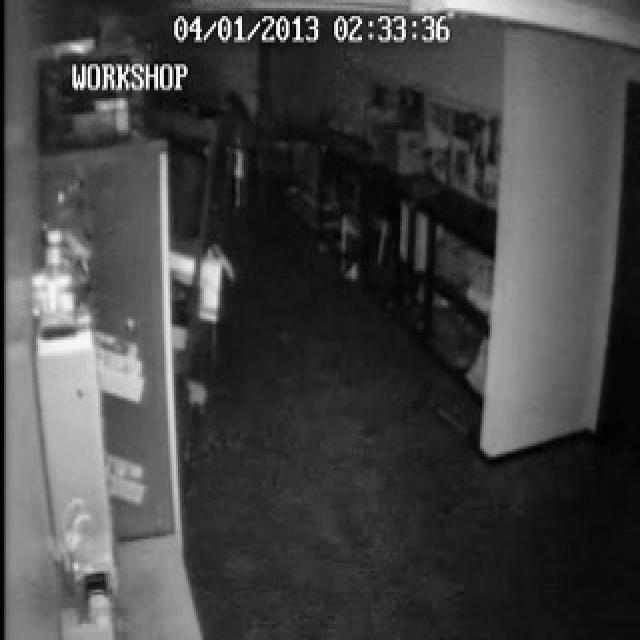thief: (172, 112, 230, 447)
